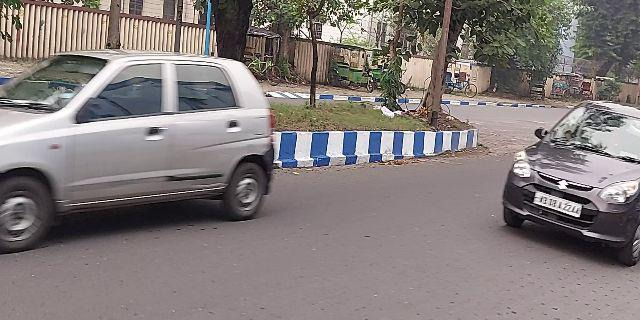Car: (1, 45, 276, 261), (500, 100, 639, 255)
